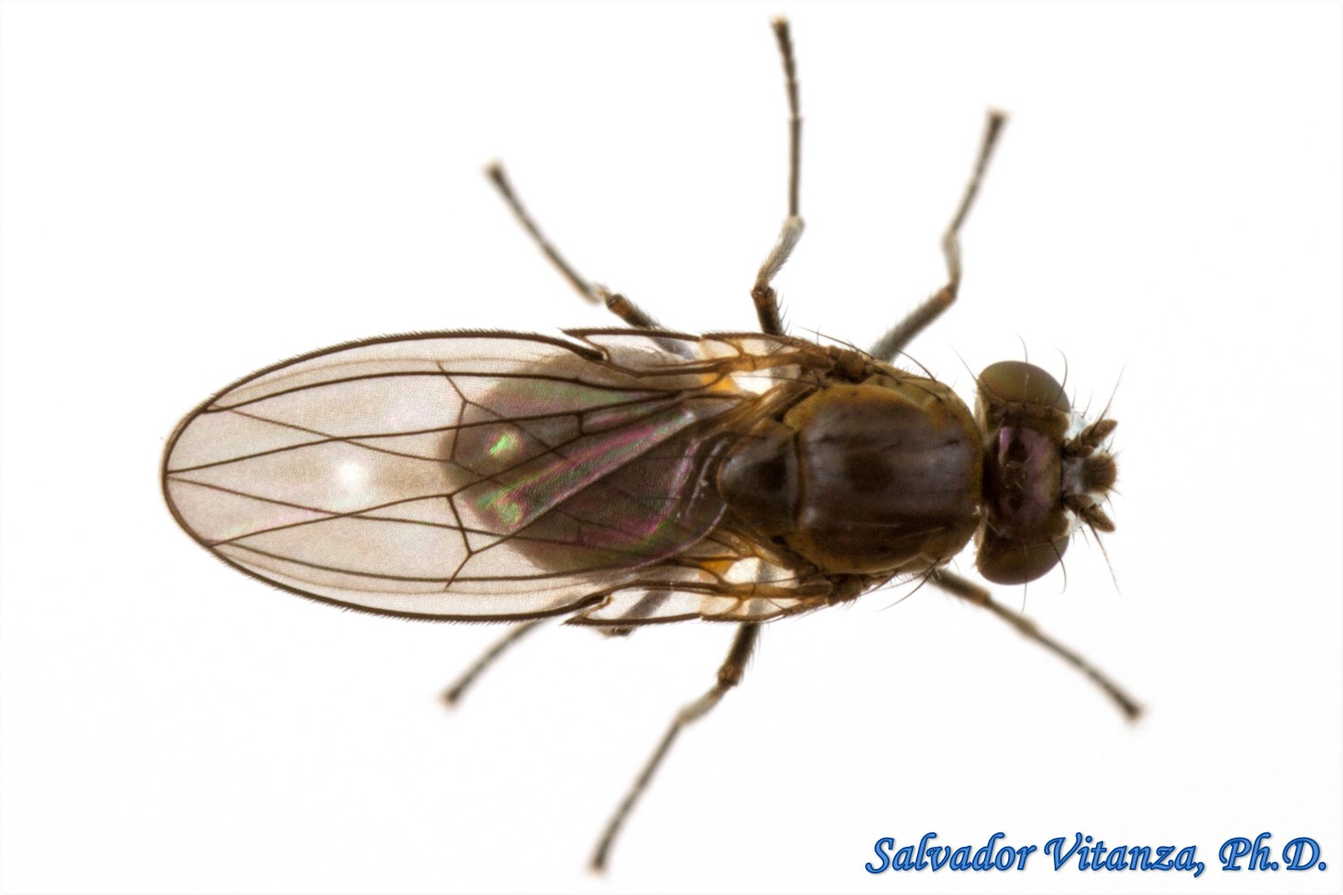Ephydridae: (161, 20, 1143, 863)
